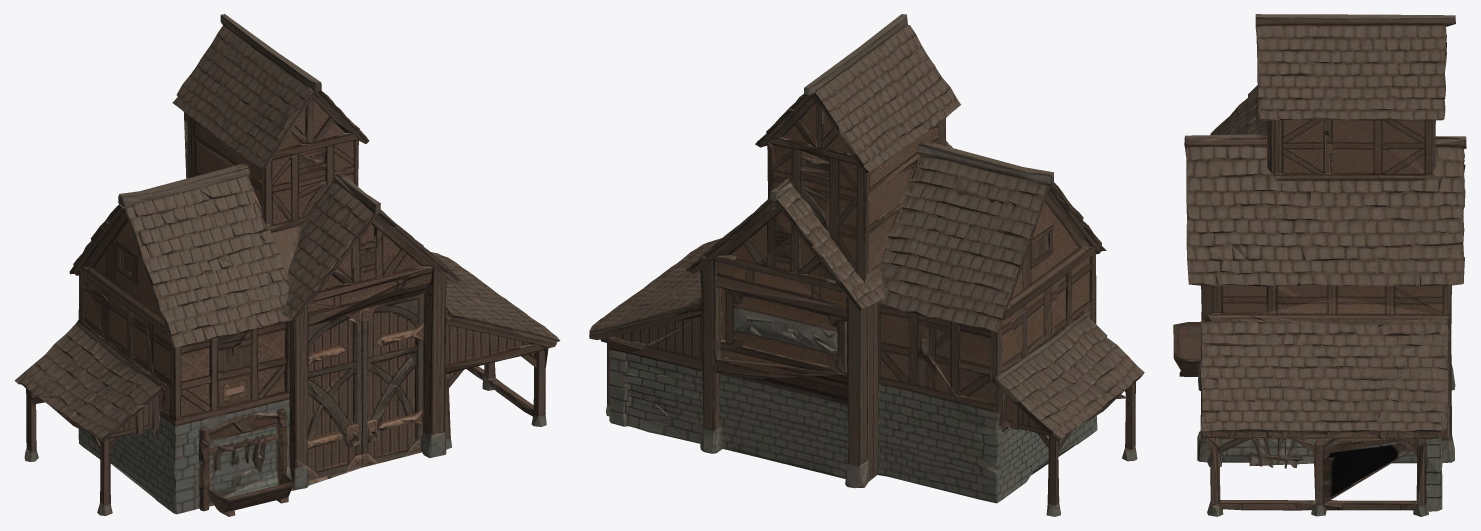
Rendered from stable.glb.
The picture shows the model from 3 angles, left to right: view 1: azimuth 30°, elevation 25°; view 2: azimuth 150°, elevation 25°; view 3: azimuth 270°, elevation 25°; orthographic projection. The views are drawn at different scales.
Parts seen in each view (by area): view 1: output_unwrapped; view 2: output_unwrapped; view 3: output_unwrapped.
Part boxes in pixels (x1,y1,x2,y2): output_unwrapped: (14,14,560,516); output_unwrapped: (589,14,1144,516); output_unwrapped: (1173,14,1466,516).
Size of the model in its own units: 1.9 by 1.55 by 1.04.
Materials: 1 (1 with a texture image).
